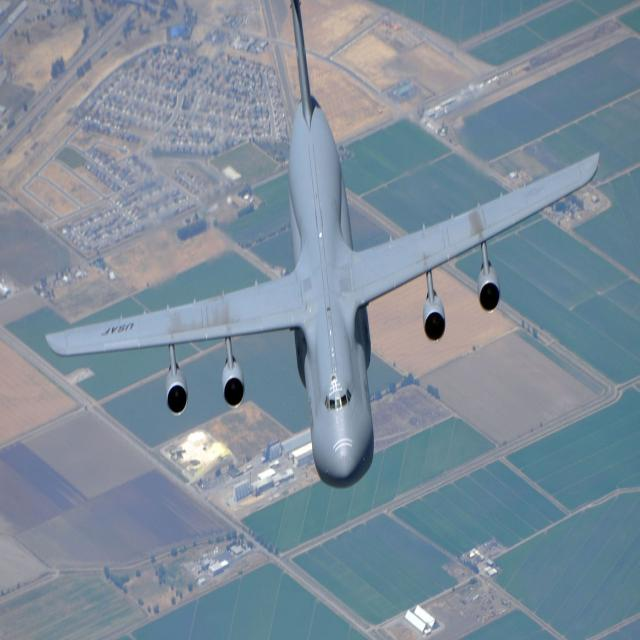MIL_Plane: (269, 0, 375, 444)
